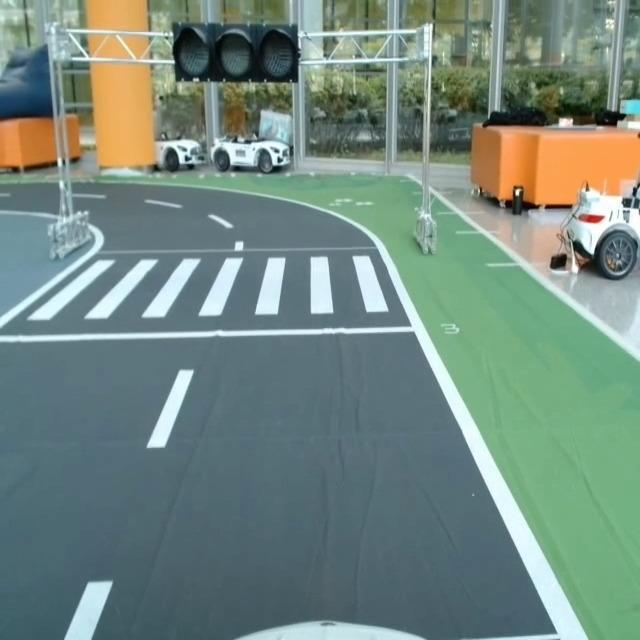traffic-light: (168, 23, 305, 88)
